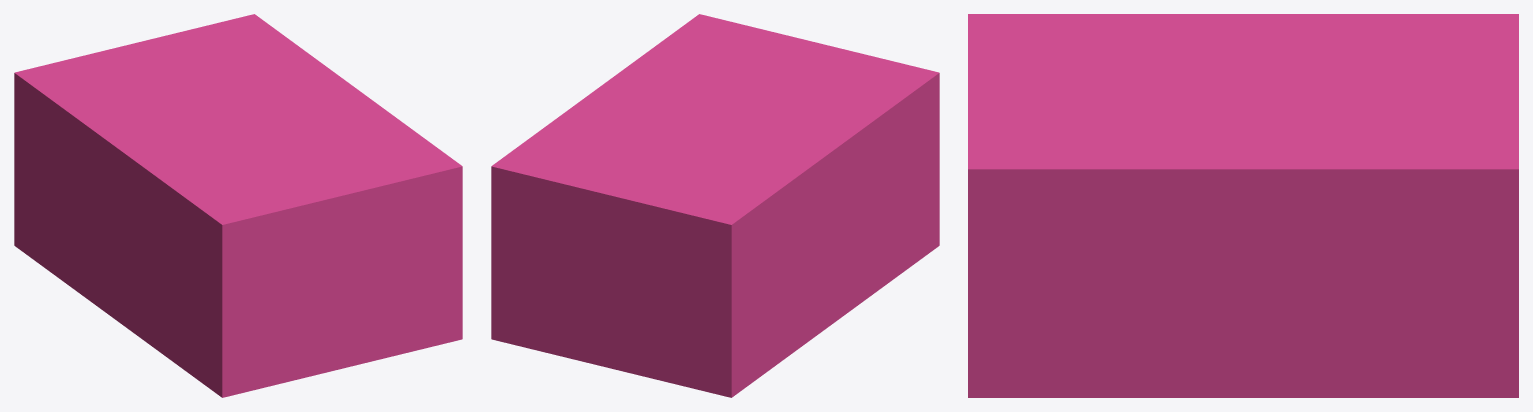
The model's file is caixa_SPGV2.glb.
3 renders of one model, left to right at view 1: azimuth 30°, elevation 25°; view 2: azimuth 150°, elevation 25°; view 3: azimuth 270°, elevation 25°, orthographic. The views are drawn at different scales.
Visible parts, largest first — view 1: Caixa; view 2: Caixa; view 3: Caixa.
Part boxes in pixels (x1=…): Caixa: x1=14, y1=14, x2=462, y2=397; Caixa: x1=491, y1=14, x2=939, y2=397; Caixa: x1=968, y1=14, x2=1518, y2=397.
Size of the model in its own units: 0.32 by 0.22 by 0.48.
